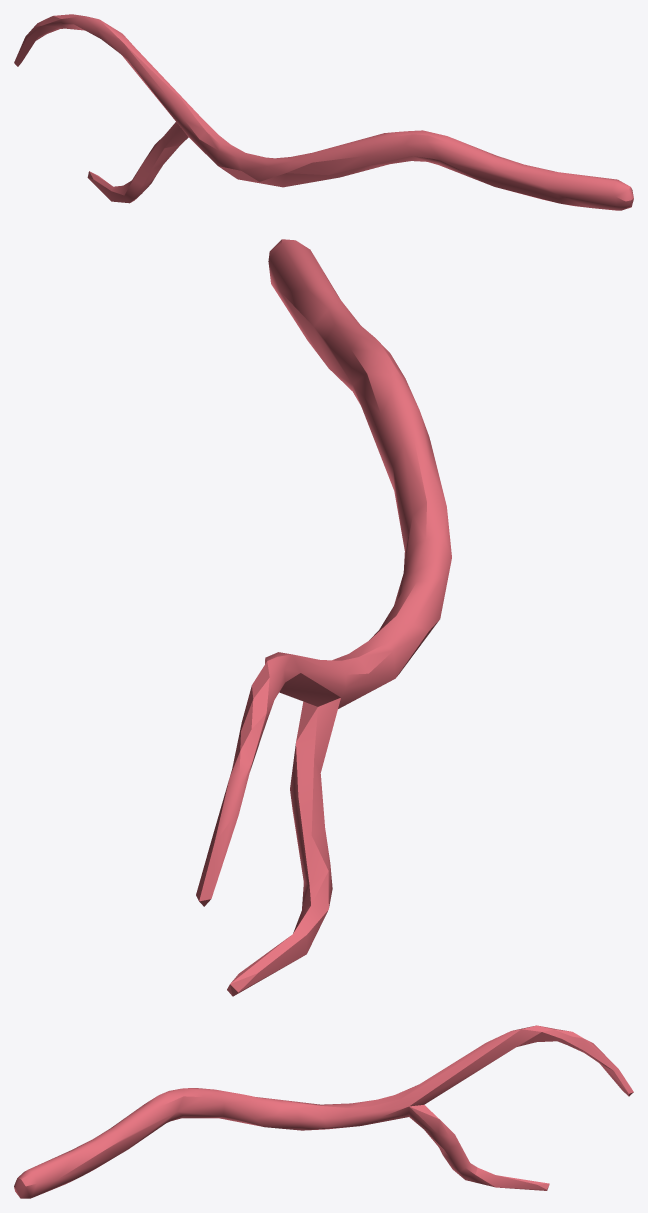
The model's file is fma50984_fj5196.glb.
3 views of the same model, one above another, from view 1: azimuth 30°, elevation 25°; view 2: azimuth 150°, elevation 25°; view 3: azimuth 270°, elevation 25° (orthographic). The views are drawn at different scales.
Parts seen in each view (by area): view 1: FMA50984_FJ5196; view 2: FMA50984_FJ5196; view 3: FMA50984_FJ5196.
Part boxes in pixels (x1,y1,x2,y2): FMA50984_FJ5196: (14, 14, 633, 210); FMA50984_FJ5196: (196, 239, 451, 996); FMA50984_FJ5196: (14, 1025, 633, 1198).
Bounding box in the file's own units: 0.0123 × 0.00689 × 0.0243.
